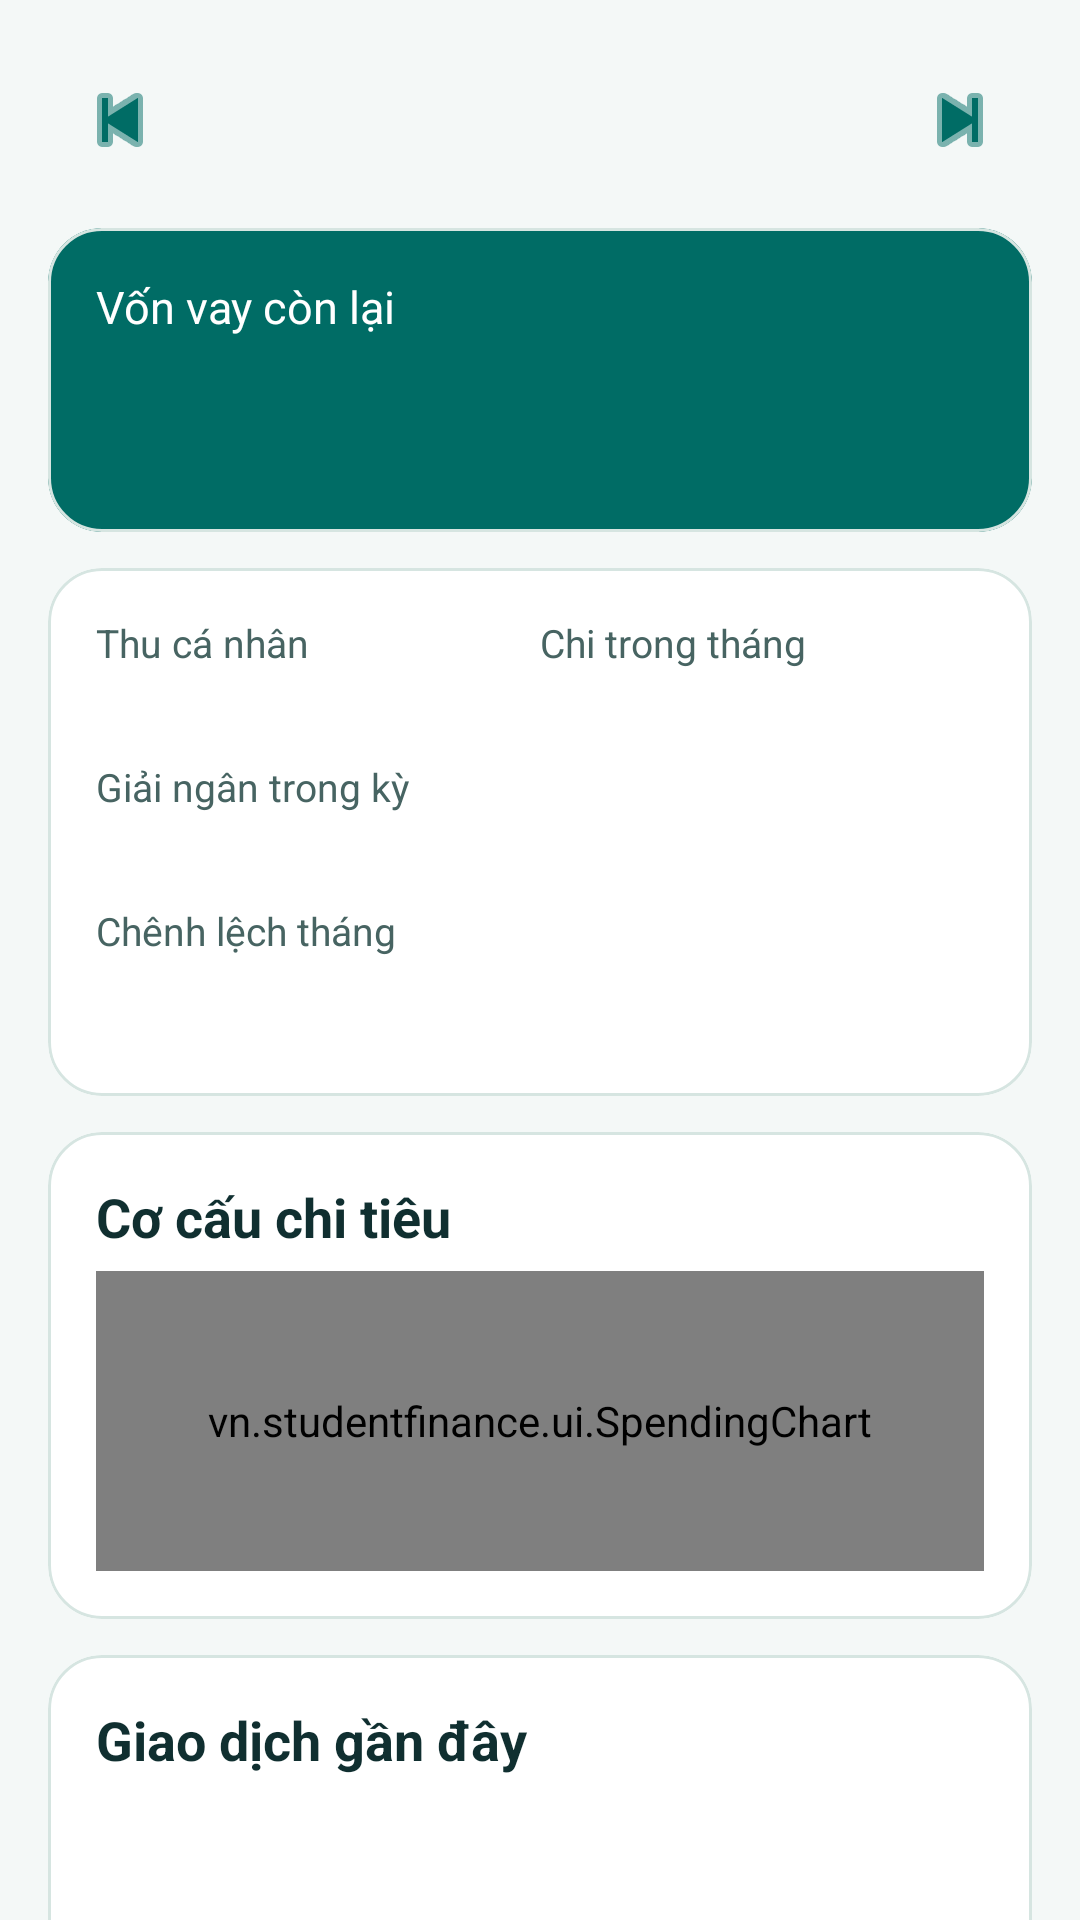

Icon click points for this 1080w x 1920h phone screenshot, format (x,y):
Tháng sau: (960,120)
Tháng trước: (120,120)
